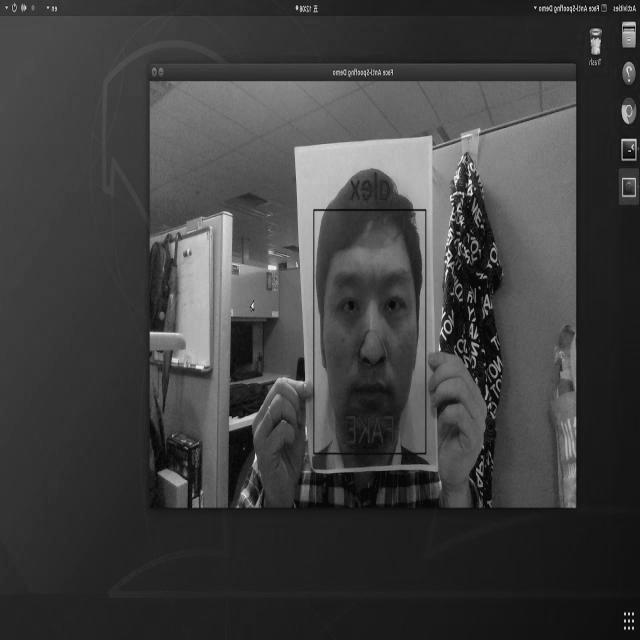fake: (290, 133, 440, 476)
